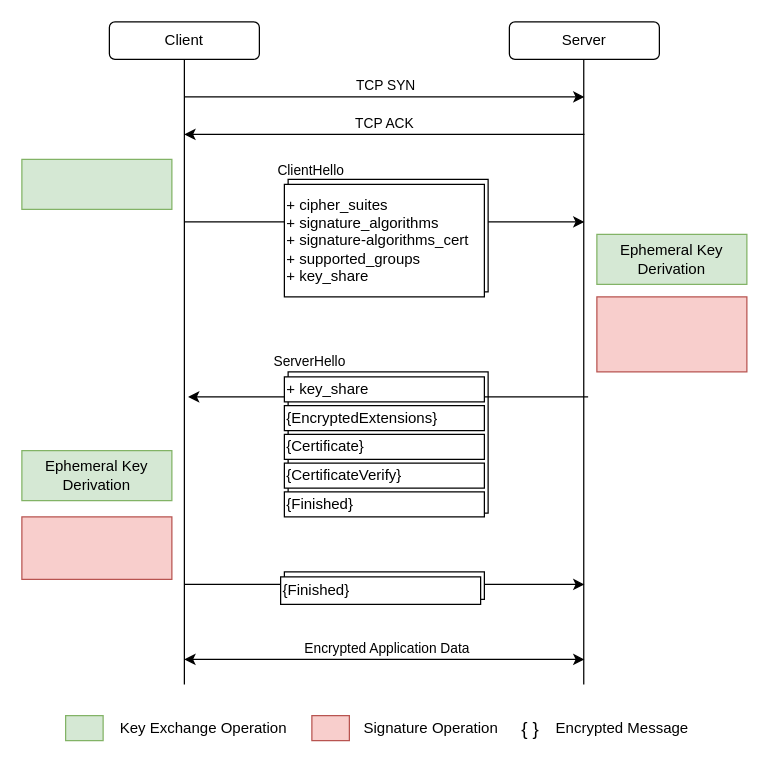
This 769x769 diagram has some shape labels left out. The shapes that lost their labels are listed below. From the top down, each one's centre as x and y in pixels, then its label:
At [96,183]: "Ephemeral Key Generation".
At [671,334]: "Sign of handshake transcripts for CertificateVerify".
At [96,547]: "Verify operations on received signatures".
